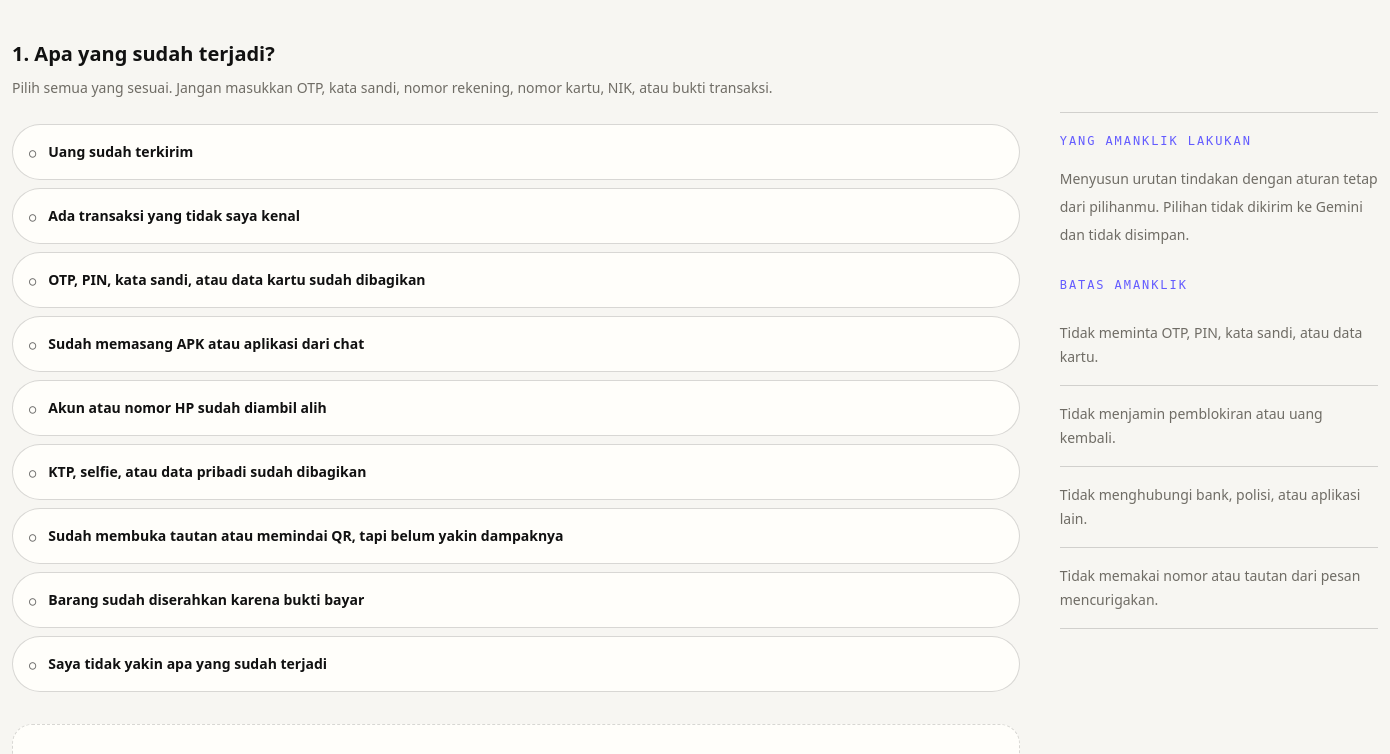
Test: RespondClient › uses the affected service to replace a generic recovery action
Click the button "○Akun atau nomor HP sudah diambil alih" at (187, 408), box [12, 380, 1020, 436]
(page scrolled)
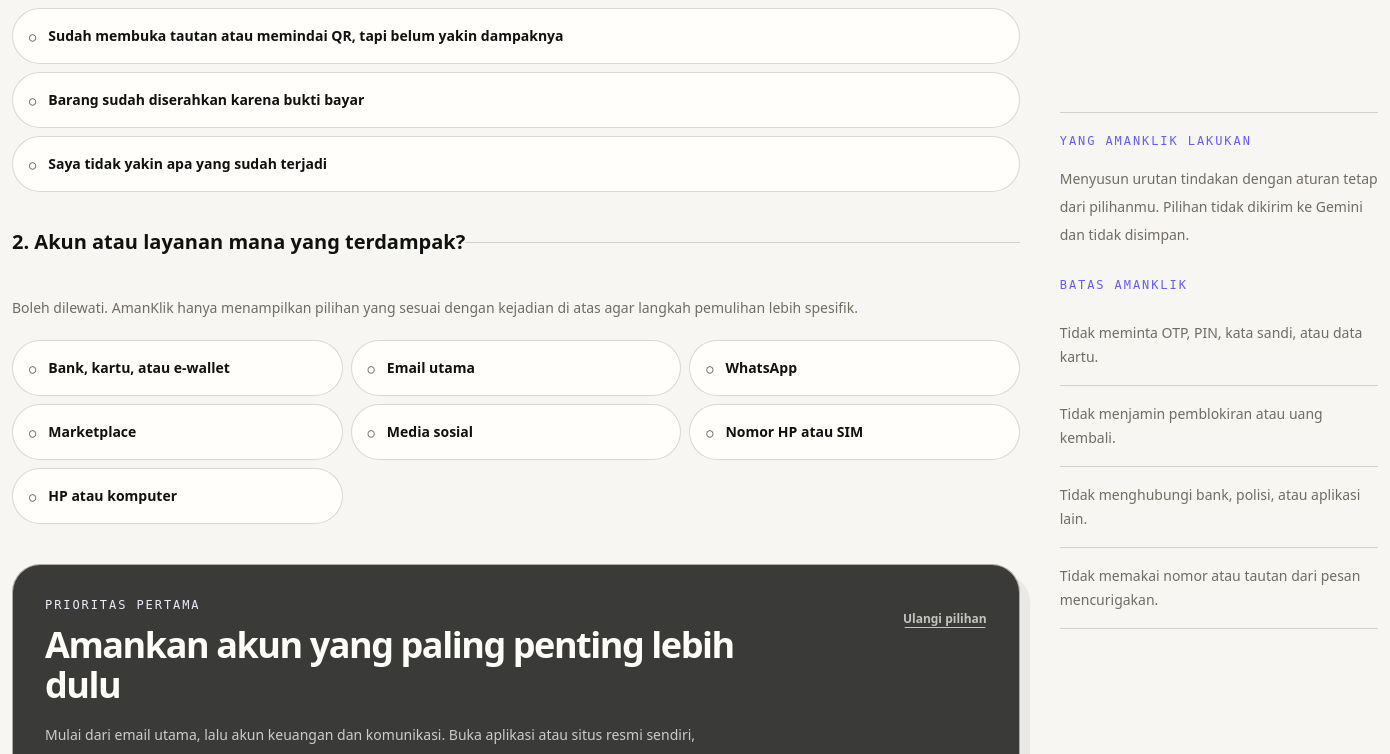
Expected: the heading "Amankan akun yang paling penting lebih dulu" is shown, [45, 625, 813, 705]
Click the button "○Nomor HP atau SIM" at (854, 432), box [689, 404, 1020, 460]
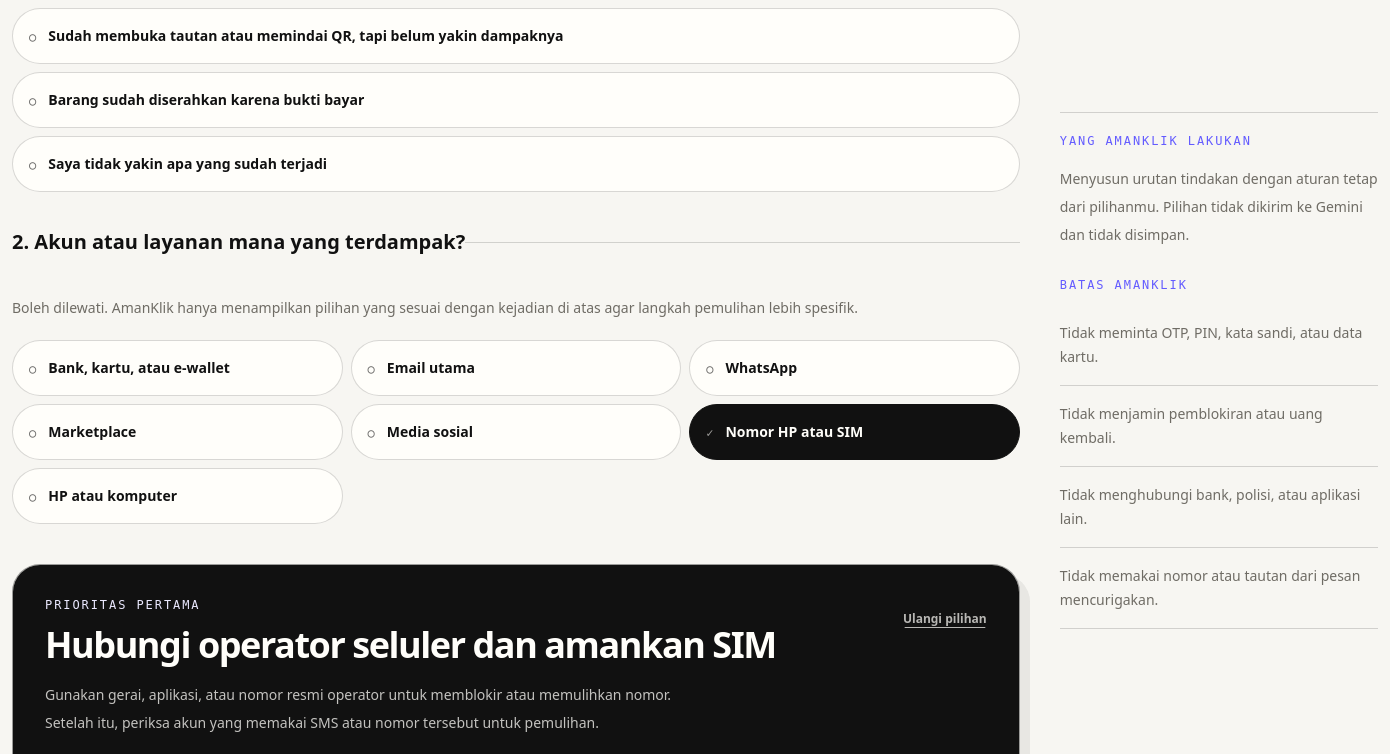
Expected: the heading "Hubungi operator seluler dan amankan SIM" is shown, [45, 625, 776, 665]
Expected: the heading "Amankan akun yang paling penting" is gone
